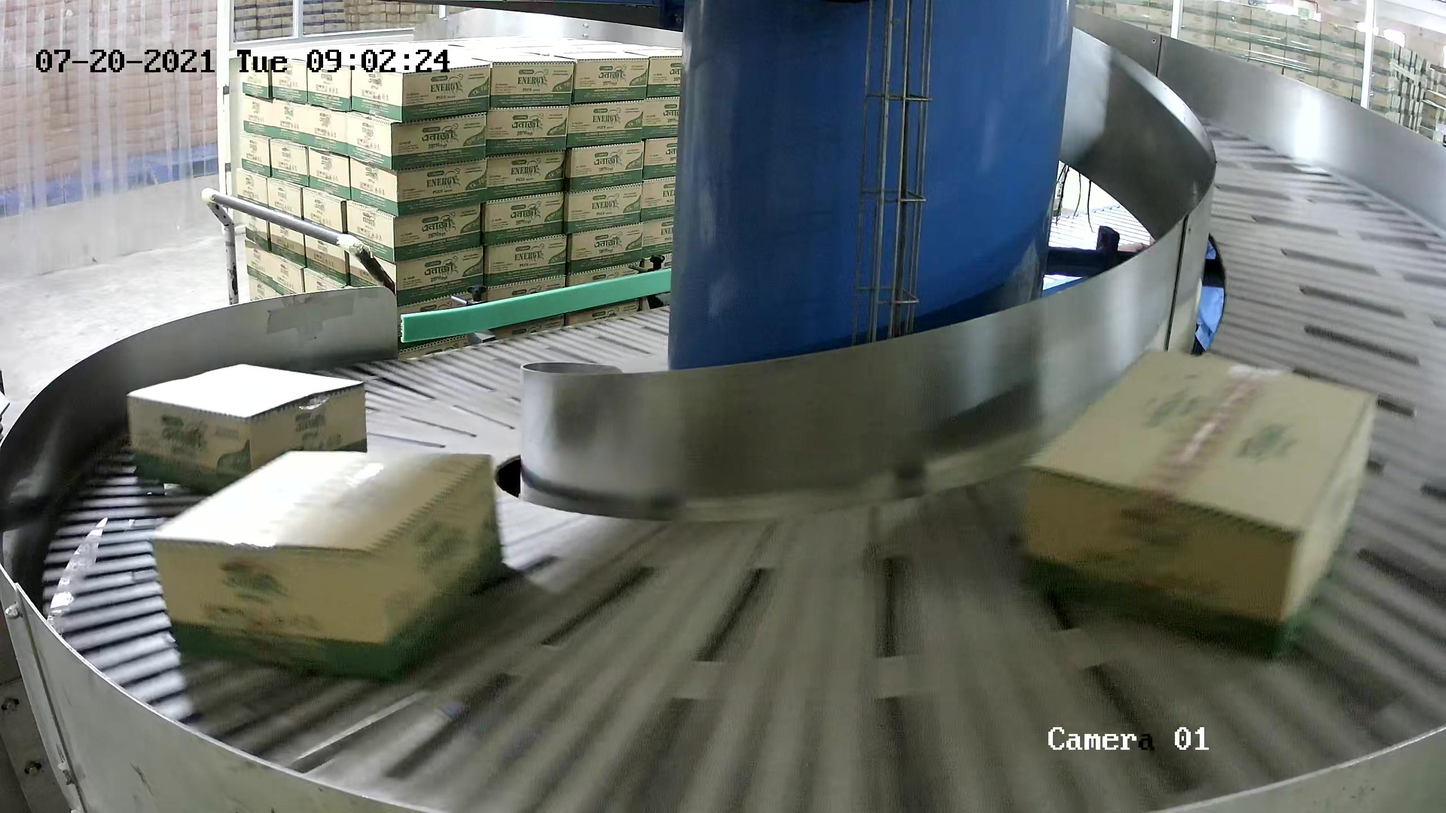Box: (1016, 346, 1378, 664), (146, 447, 505, 681), (125, 361, 370, 493)
